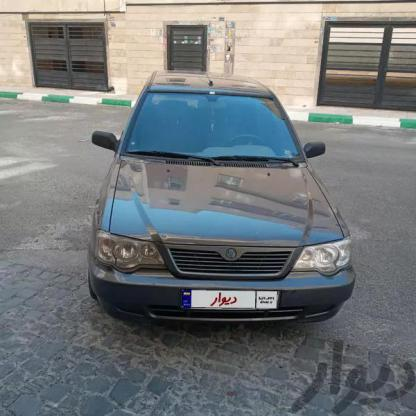car: (87, 74, 358, 330)
